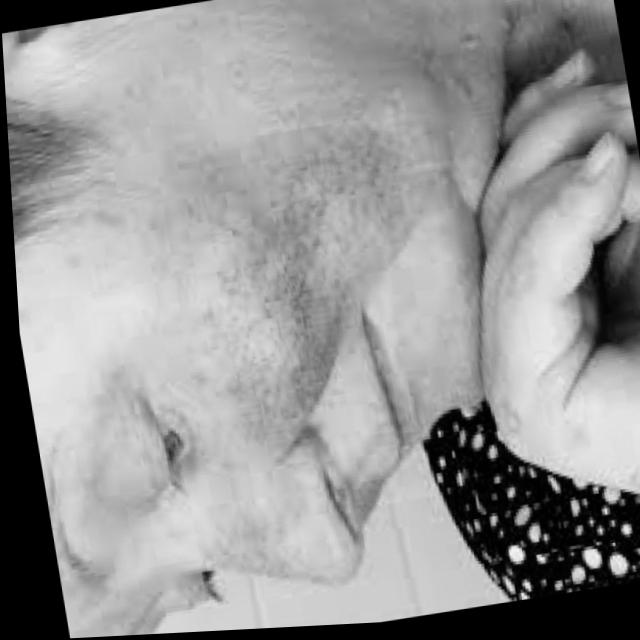Rosacea: (193, 162, 376, 462)
